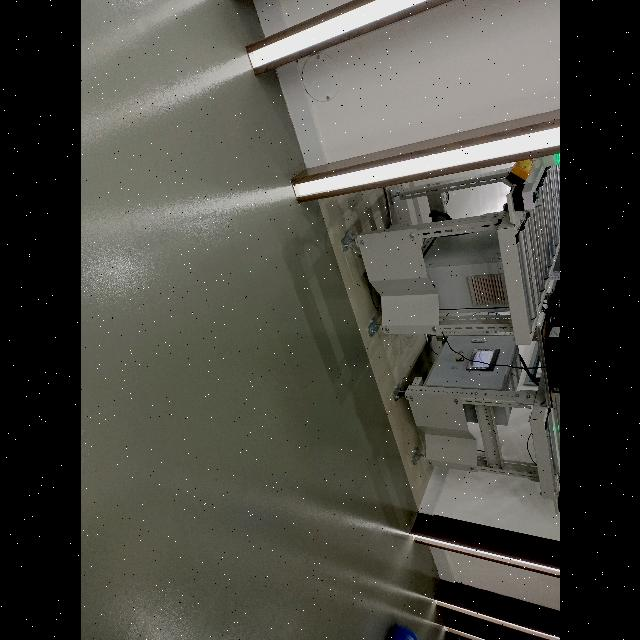B: (386, 626, 419, 640)
